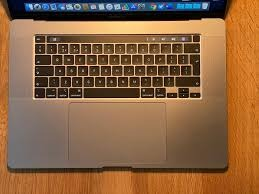keyboard: (29, 33, 206, 103)
